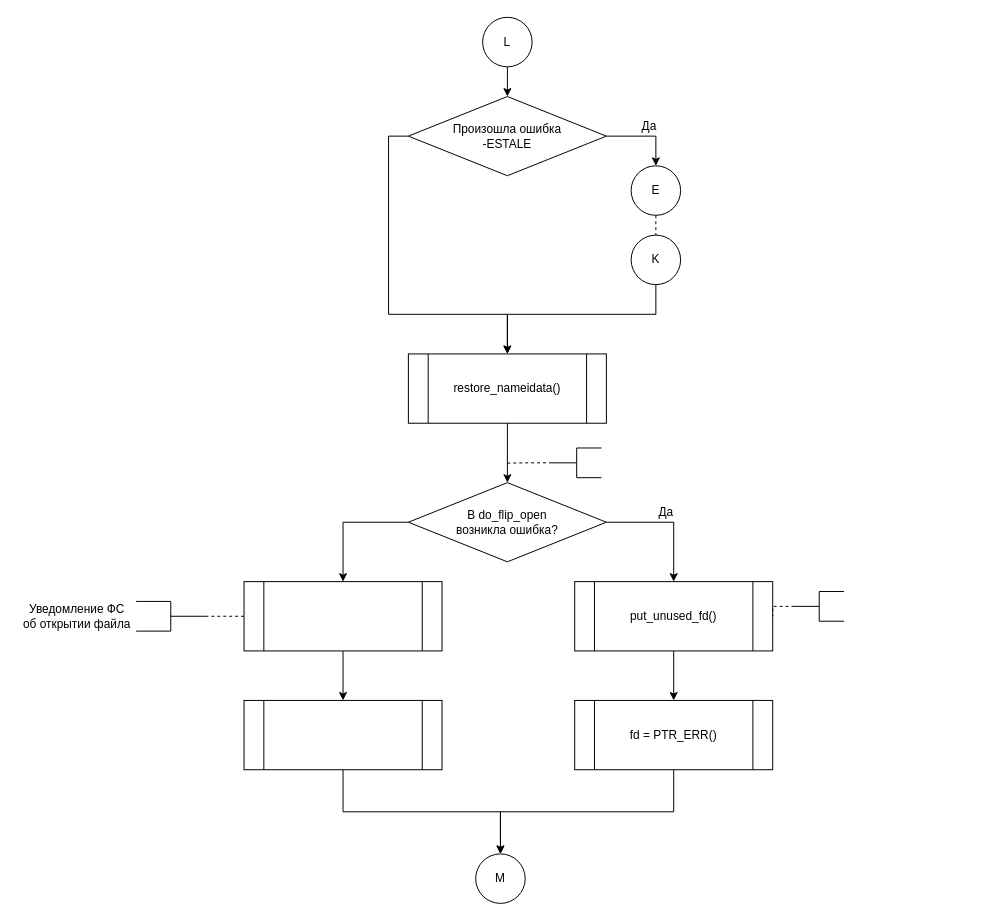
This 1008x921 diagram has some shape labels left out. The shapes that lost their labels are listed below. From the top down, each one's centre as x and y in pixels, then its label:
[576,462]: Конец do_flip_open Возврат в do_sys_openat2
[342,616]: fsnotify_open()
[818,606]: Освобождение файлового дескриптора
[342,734]: fd_install()
